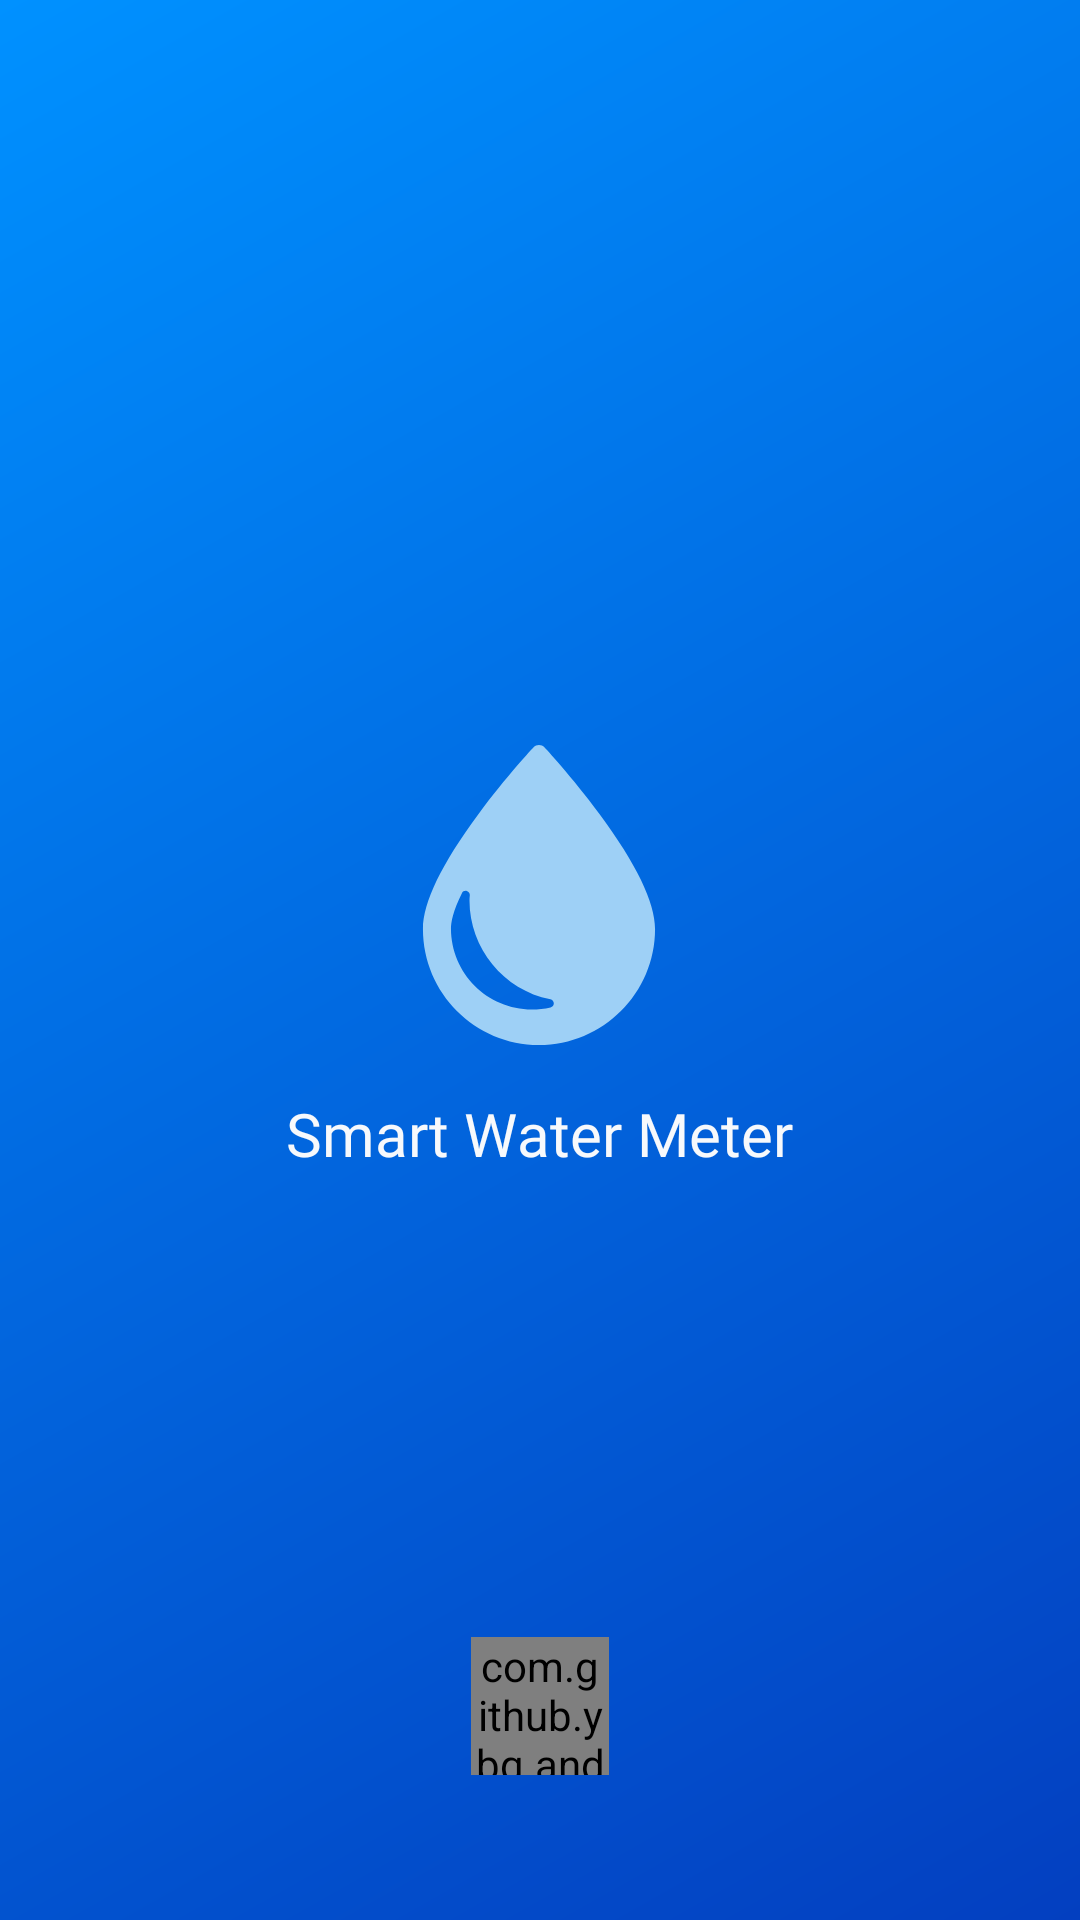

Named icons in this screenshot (1080x1920) and their centers, (x,y):
water drop: (539,895)
